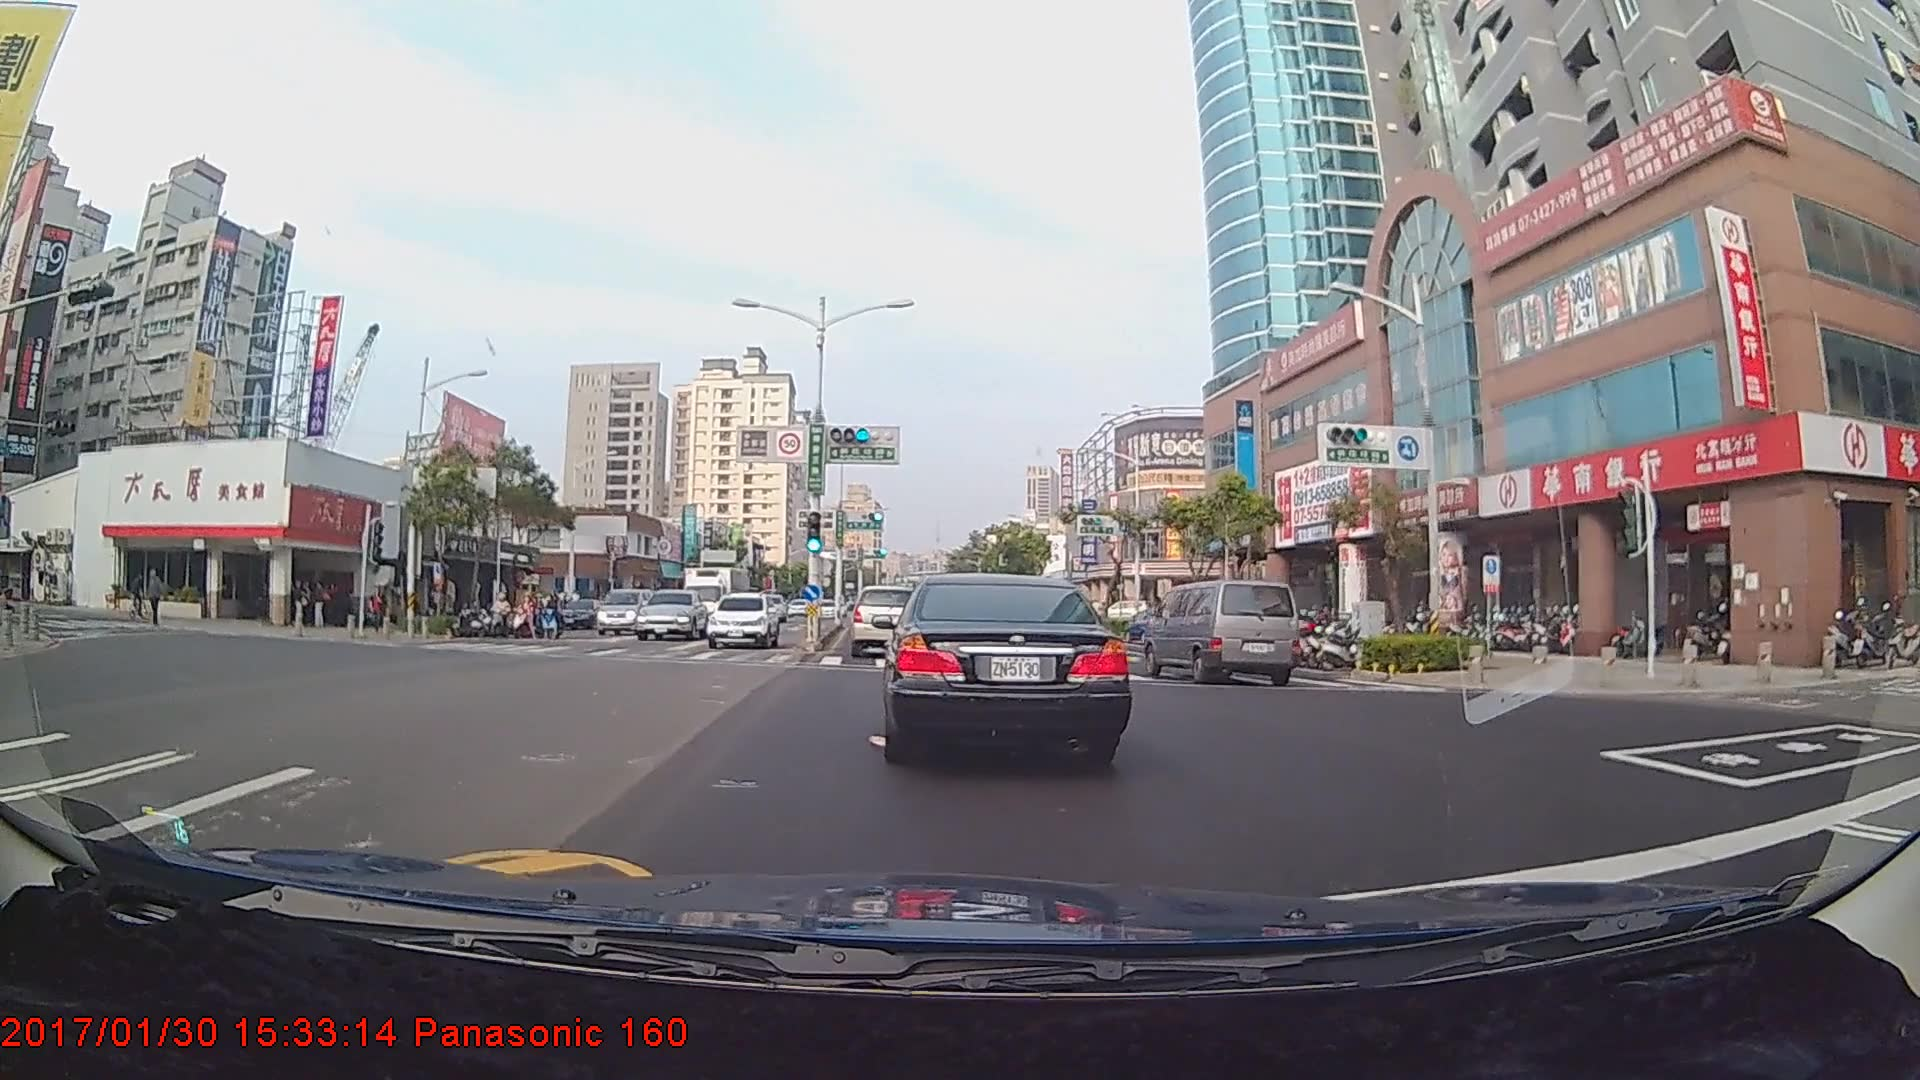pedestrian: (144, 569, 167, 626), (291, 579, 311, 633), (310, 580, 330, 630)
vehicle: (879, 567, 1127, 765), (1145, 578, 1299, 686), (849, 582, 926, 656), (683, 561, 756, 634), (705, 591, 781, 649), (636, 588, 708, 642), (592, 585, 653, 636)
